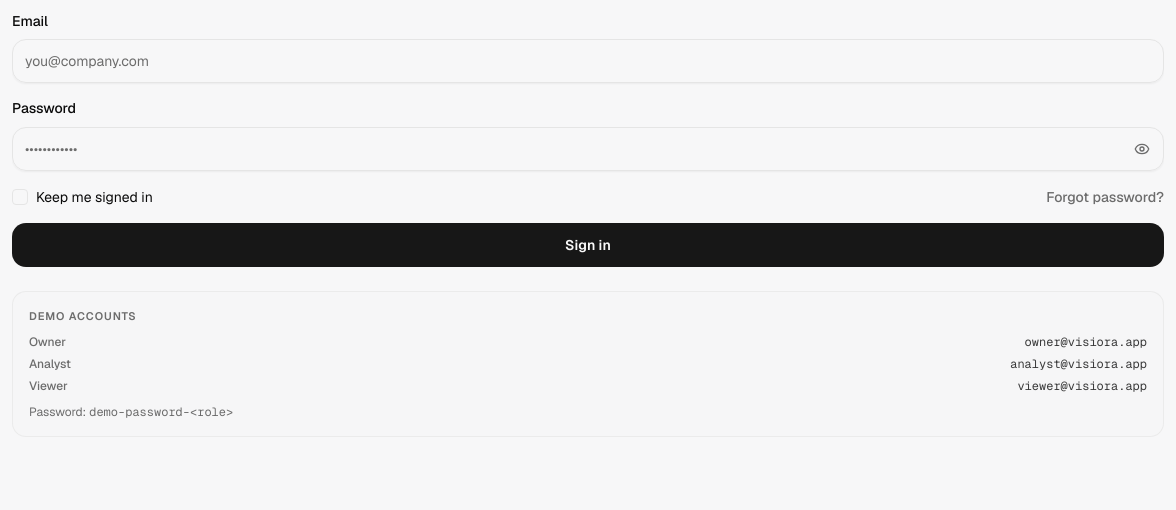
Test: LoginForm › announces a failed sign-in as an alert
What coordinates should you click on to do the following:
click the button "Sign in"
I would click on:
 (588, 244)
Its box is [12,222,1164,266].
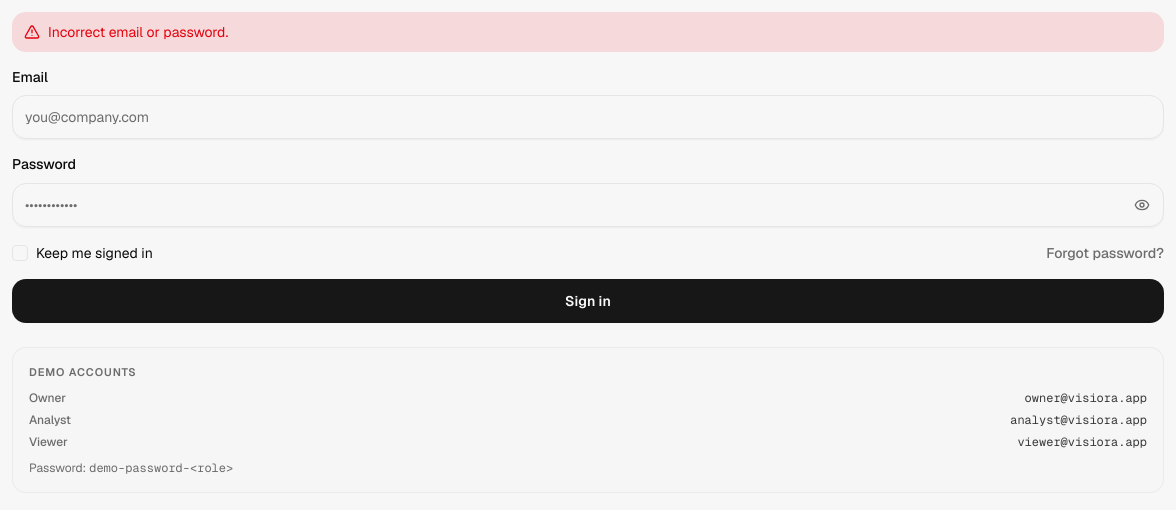
Now the message reads "Incorrect email or password.", box [48,23,228,41]
